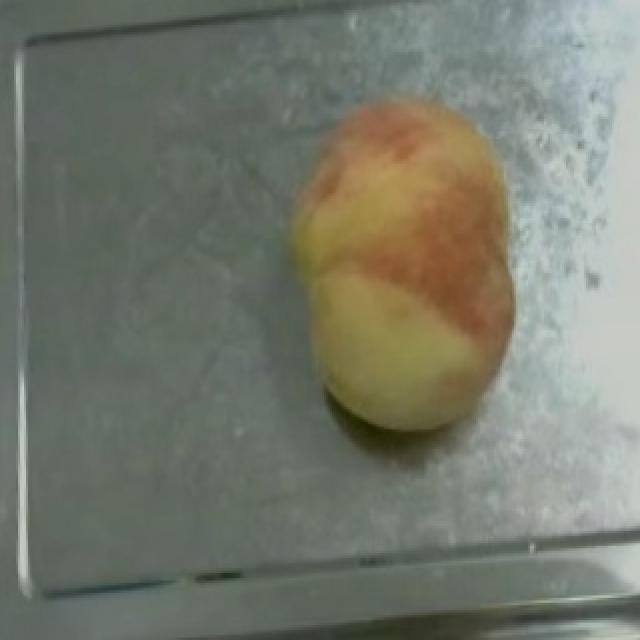Fruit: (260, 139, 528, 444)
